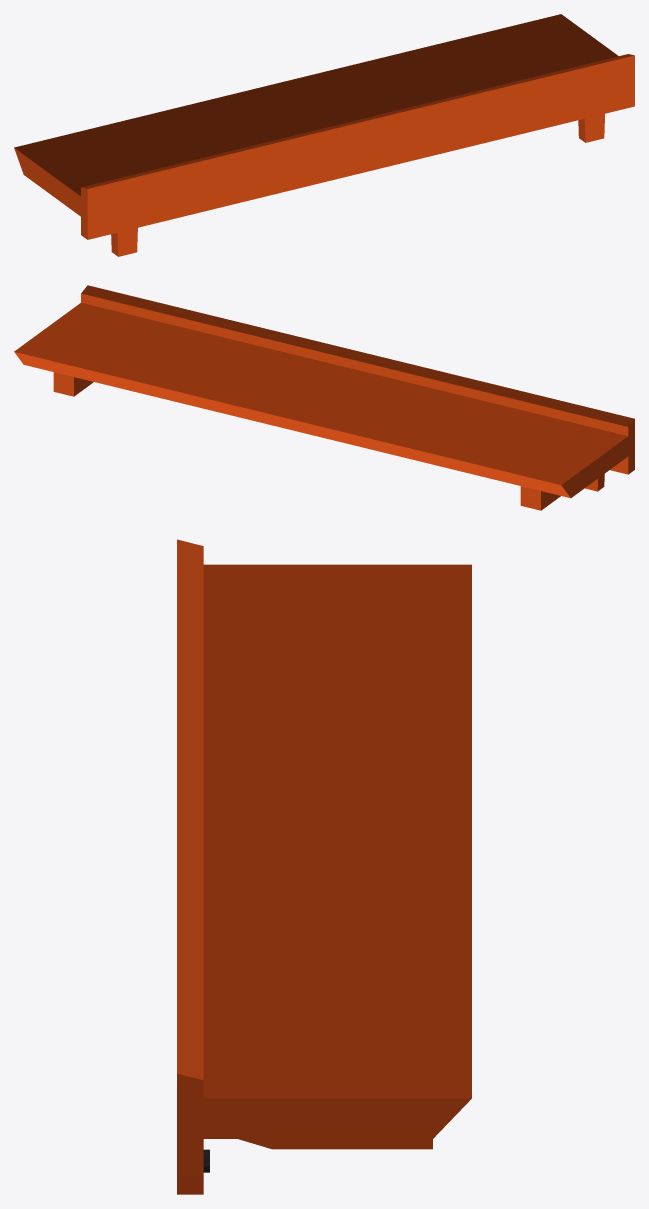
Rendered from Storage Rack 1.fbx.
3 views of the same model, one above another, from view 1: azimuth 30°, elevation 25°; view 2: azimuth 150°, elevation 25°; view 3: azimuth 270°, elevation 25° (orthographic). The views are drawn at different scales.
Parts seen in each view (by area): view 1: Node 0; view 2: Node 0; view 3: Node 0.
Boxes of the visible parts, x1,y1,x2,y2 form: Node 0: (14, 14, 634, 256); Node 0: (14, 285, 634, 510); Node 0: (177, 539, 471, 1194).
Size of the model in its own units: 0.3737 by 0.2112 by 1.6.
